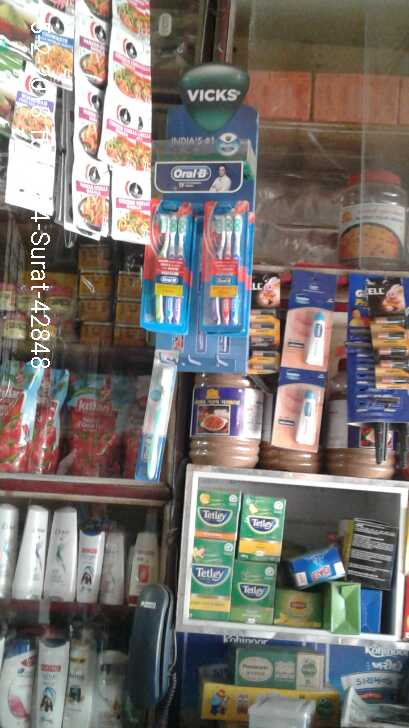beauty: (3, 636, 35, 728)
pharmacy: (147, 202, 195, 335), (203, 199, 249, 335)
